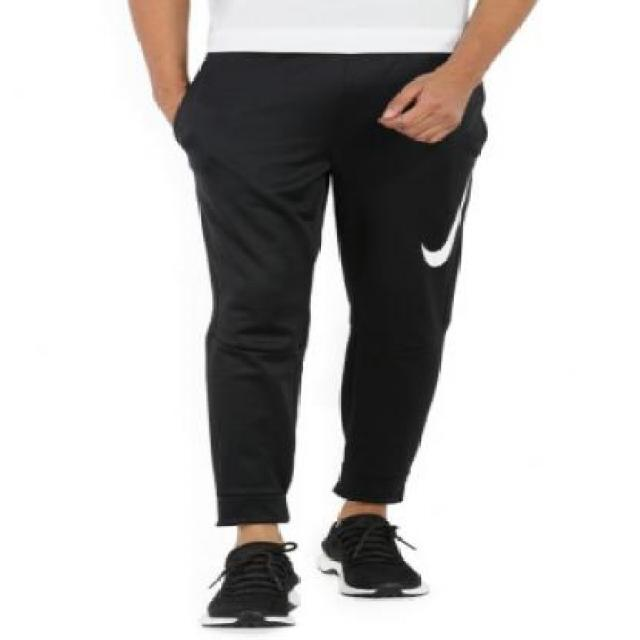Nike: (420, 165, 469, 268)
